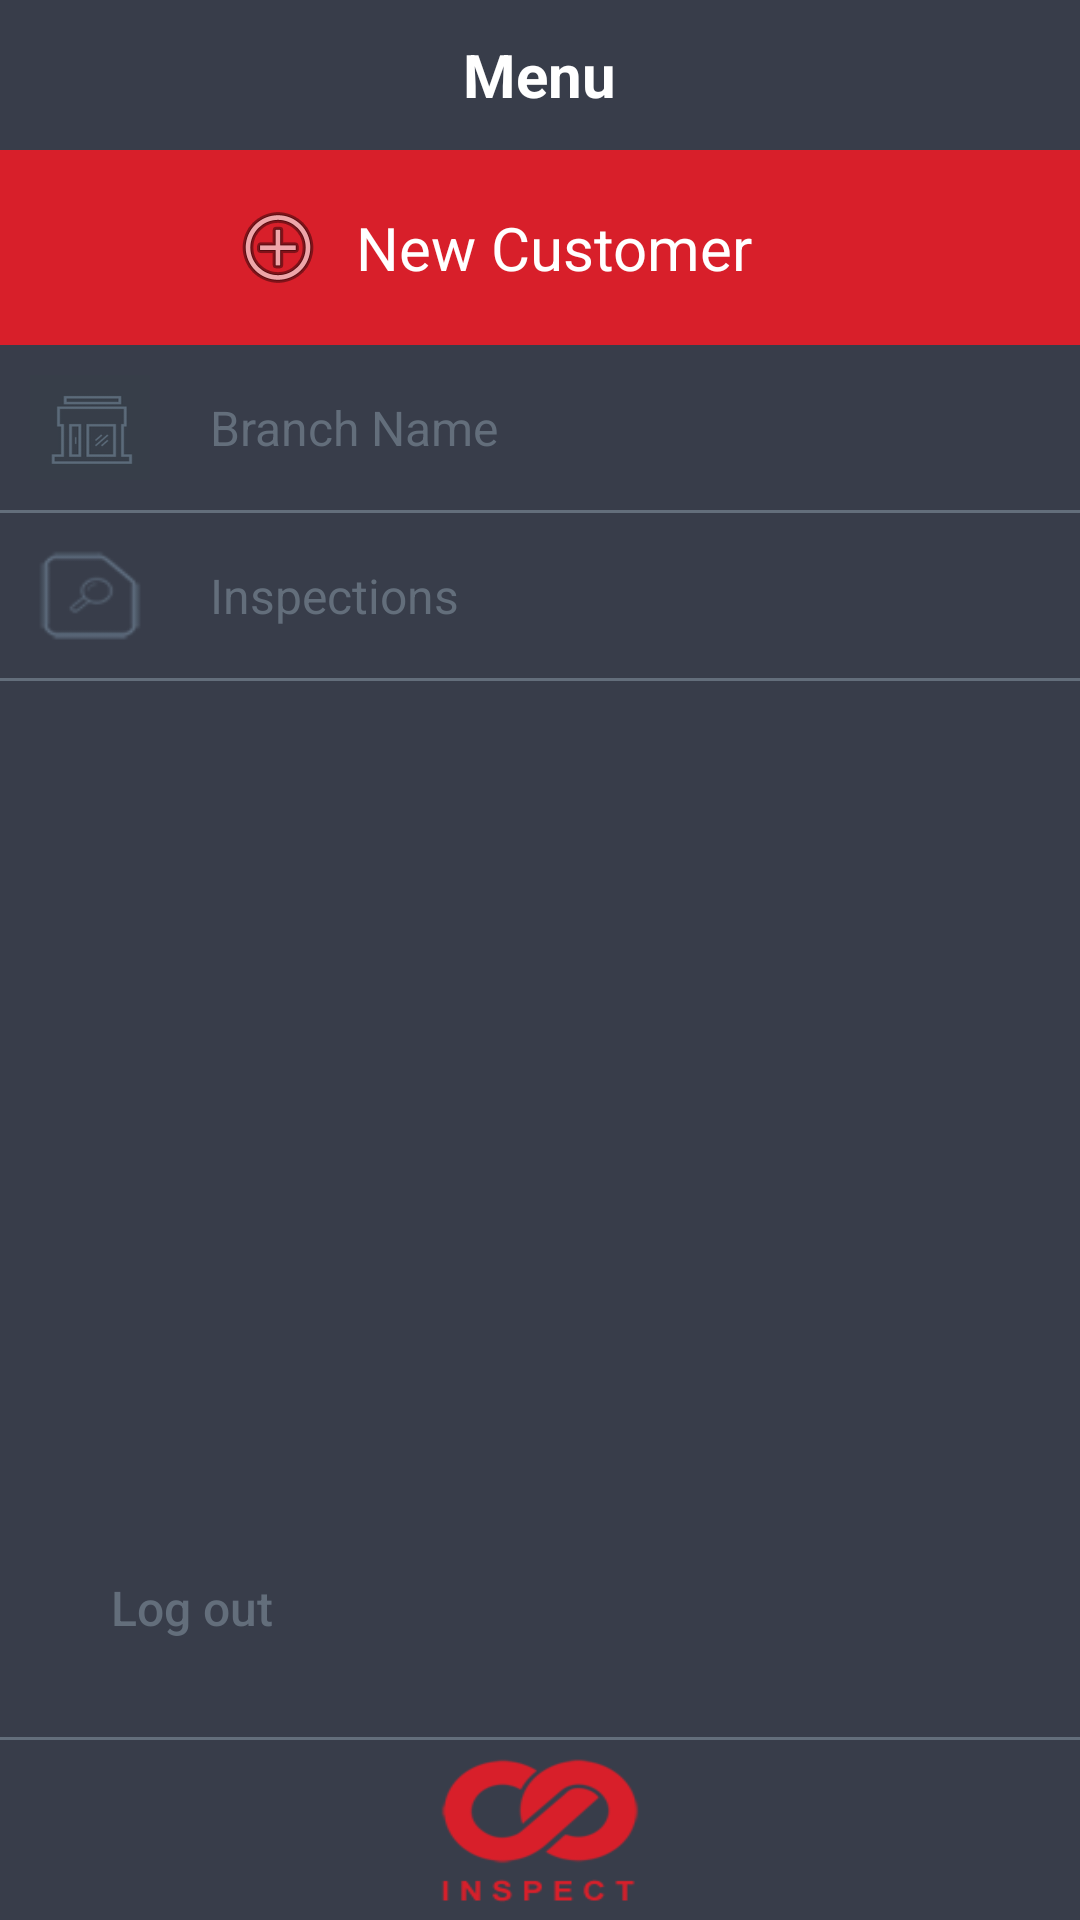

Icons on this 1080px x 1920px Android screen, each with its box as (x1, y1, x2, y2):
add: (242, 212, 314, 283)
